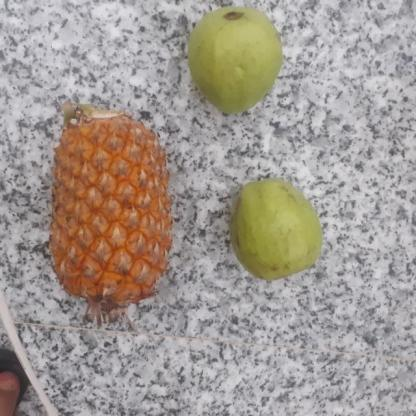guava: (185, 6, 284, 118), (225, 180, 324, 278)
pineapple: (51, 99, 170, 313)
